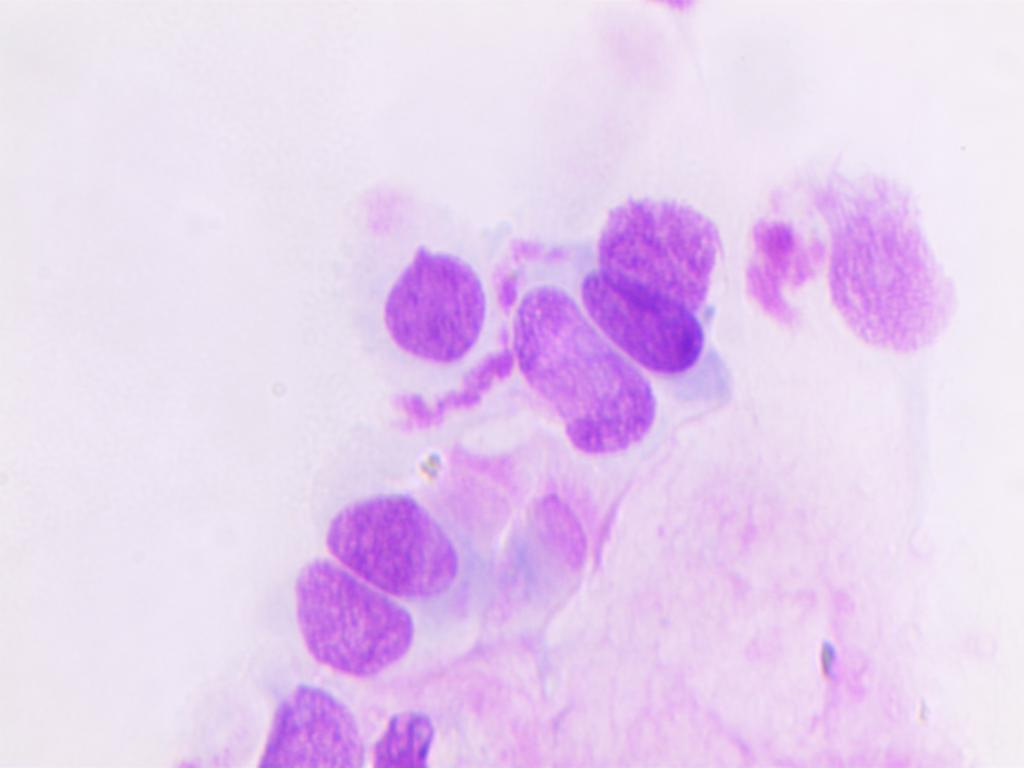ciliated: (326, 444, 515, 602)
epithelial: (810, 167, 960, 363), (500, 275, 660, 455), (267, 543, 426, 682), (568, 248, 710, 383), (355, 237, 495, 365), (589, 198, 725, 316), (251, 676, 368, 768)
